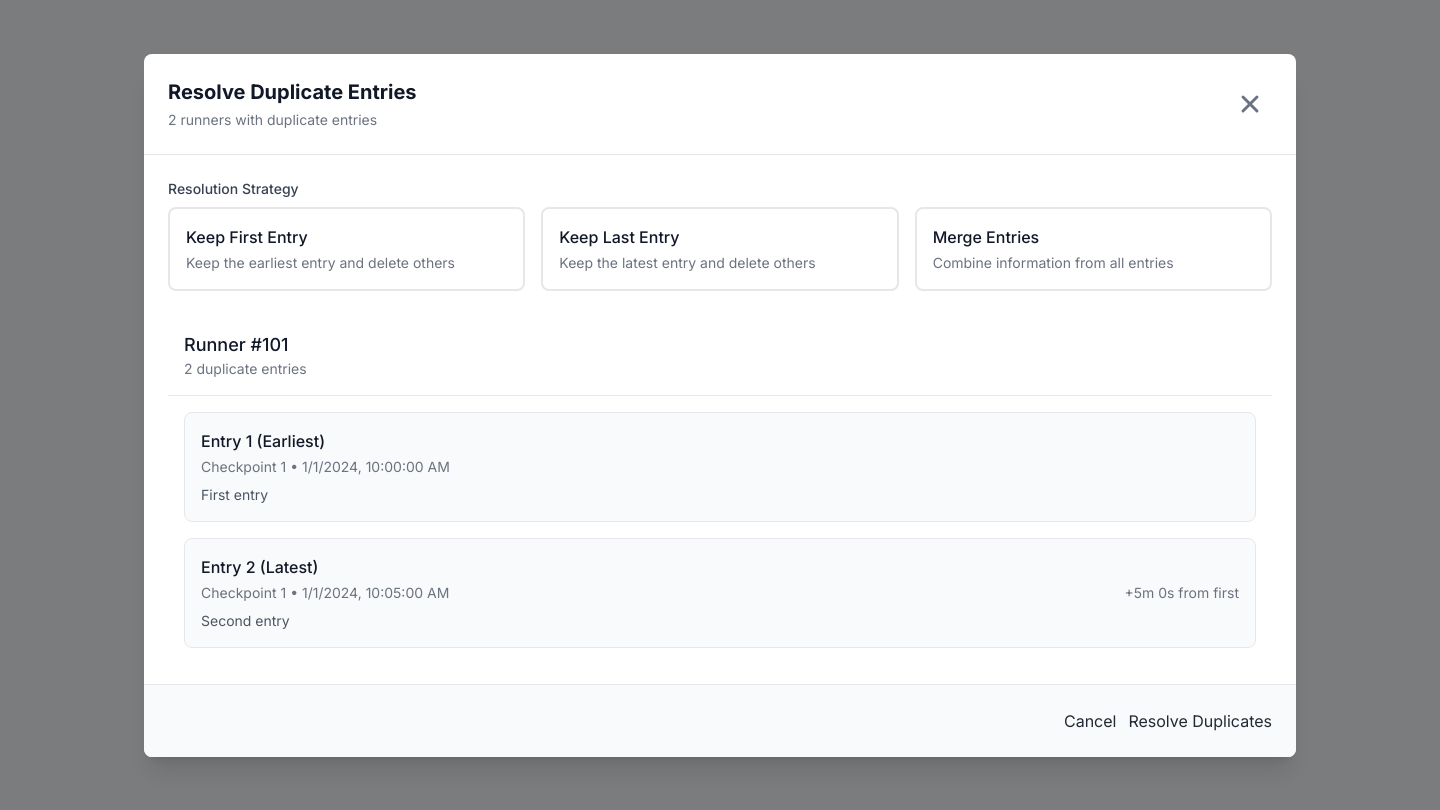
Test: DuplicateEntriesDialog › handles errors during resolution
The image size is (1440, 810).
Note: Select strategy and try to resolve
Click the text "Keep First Entry".
click(247, 236)  # box [186, 226, 308, 246]
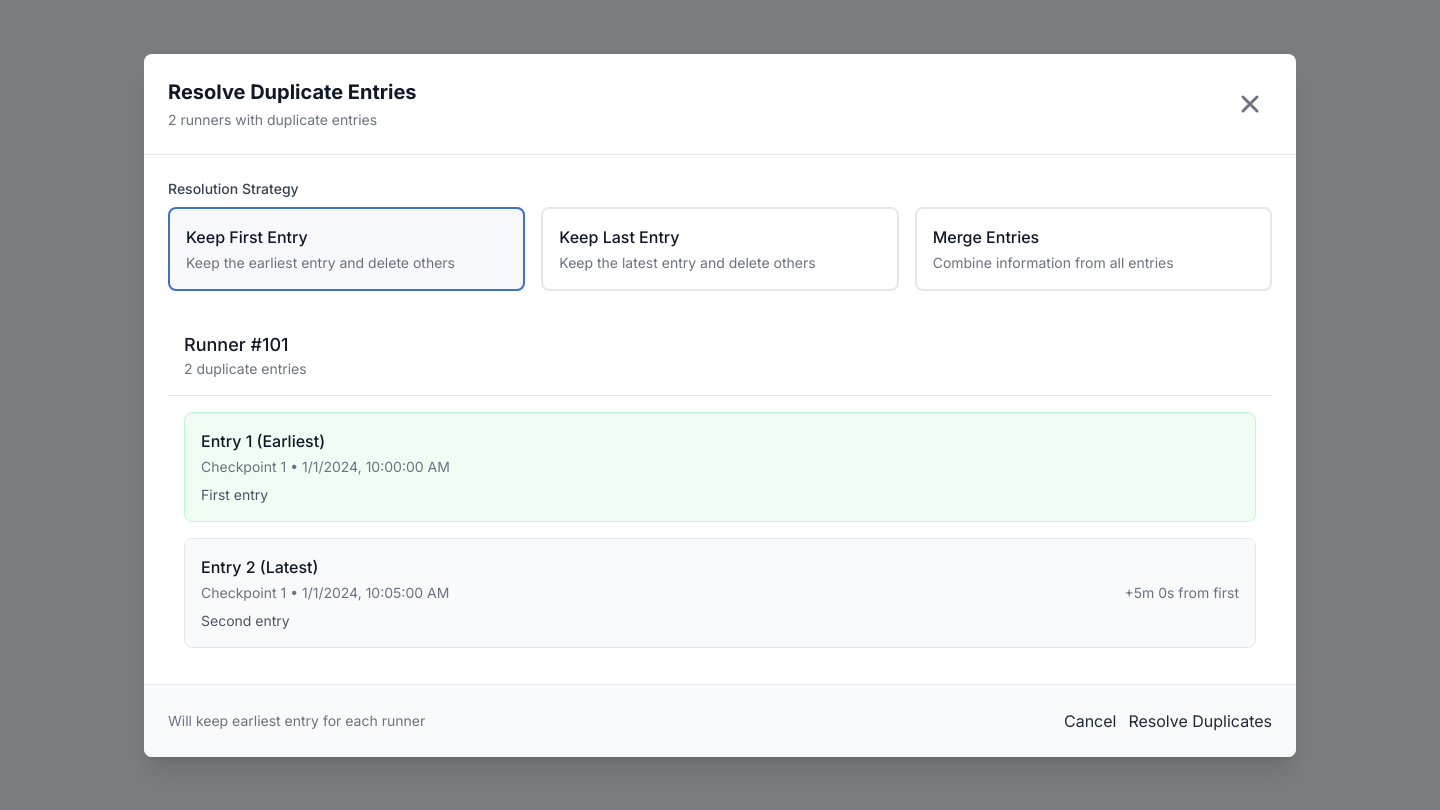
Click the button "Resolve Duplicates".
click(1200, 720)  # box [1128, 708, 1272, 732]
(page scrolled)
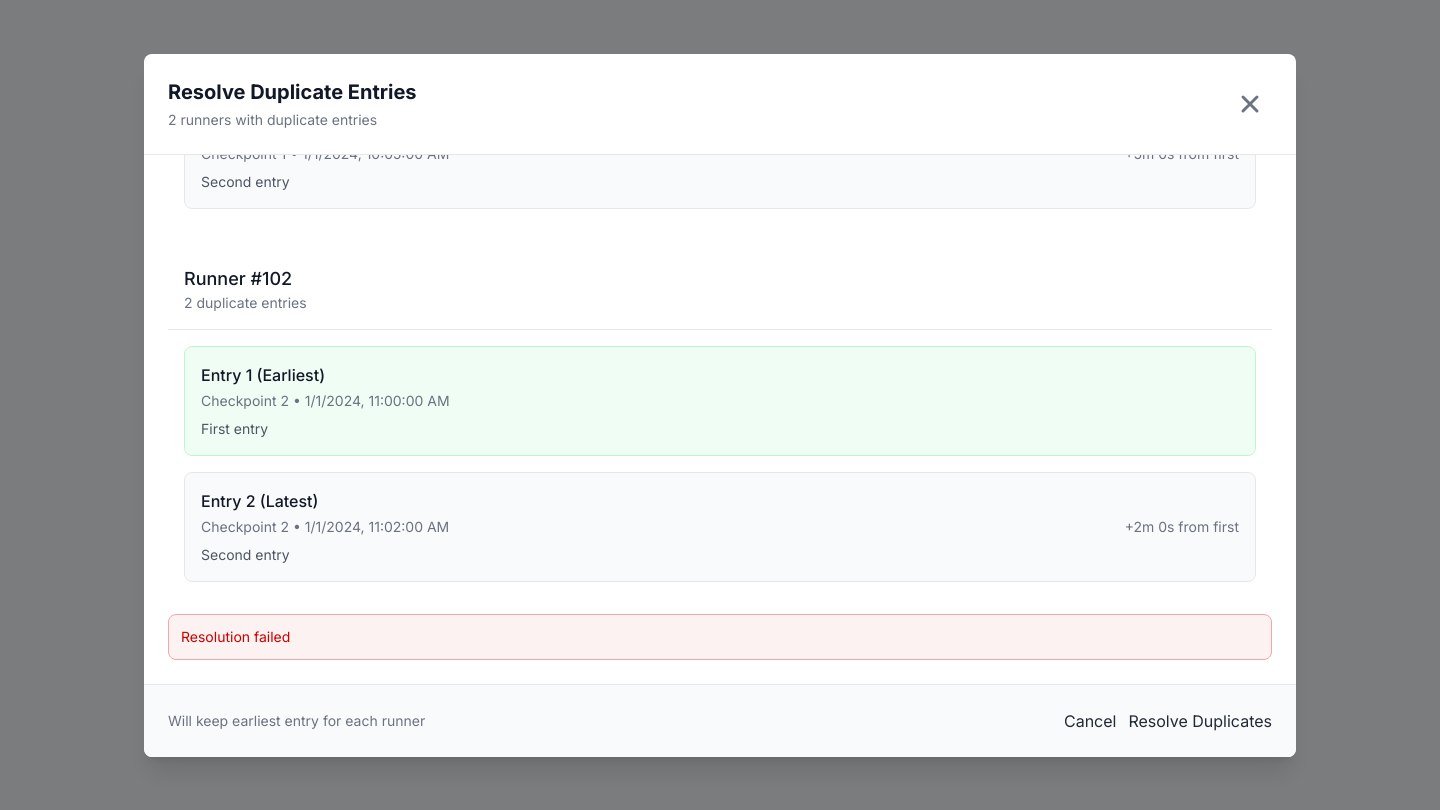
Result: the text "Resolution failed" is shown at [181, 628, 290, 644]
